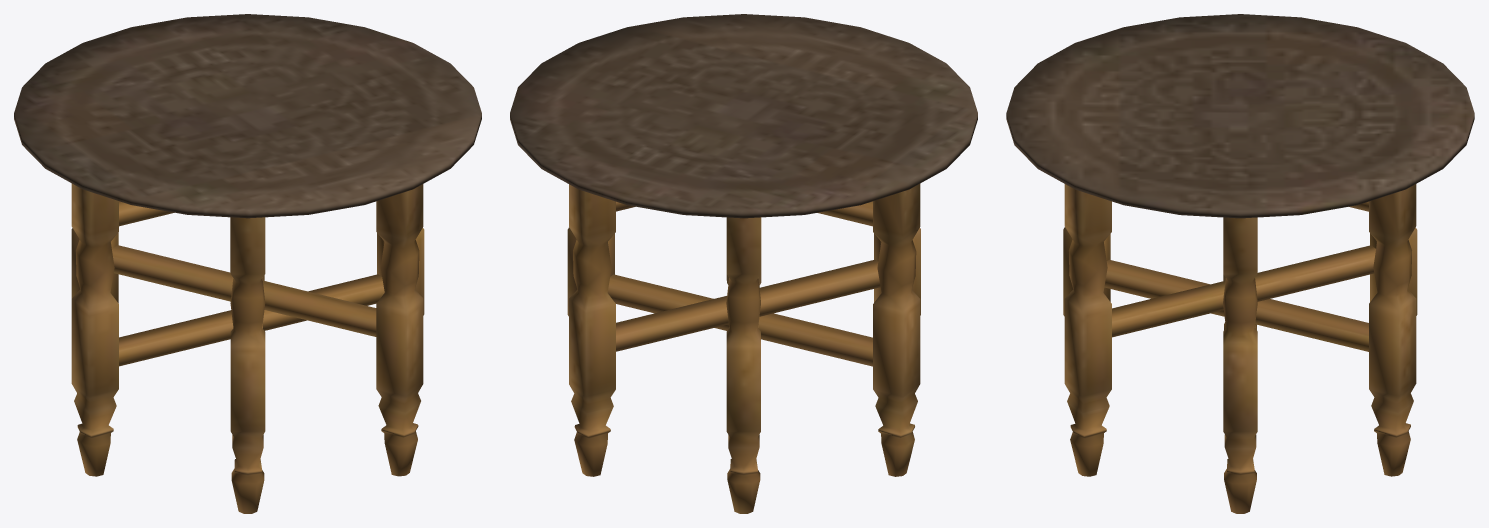
3 renders of one model, left to right at view 1: azimuth 30°, elevation 25°; view 2: azimuth 150°, elevation 25°; view 3: azimuth 270°, elevation 25°, orthographic.
Size of the model in its own units: 9.6 by 7.3 by 9.6.
1 material, 1 textured.
